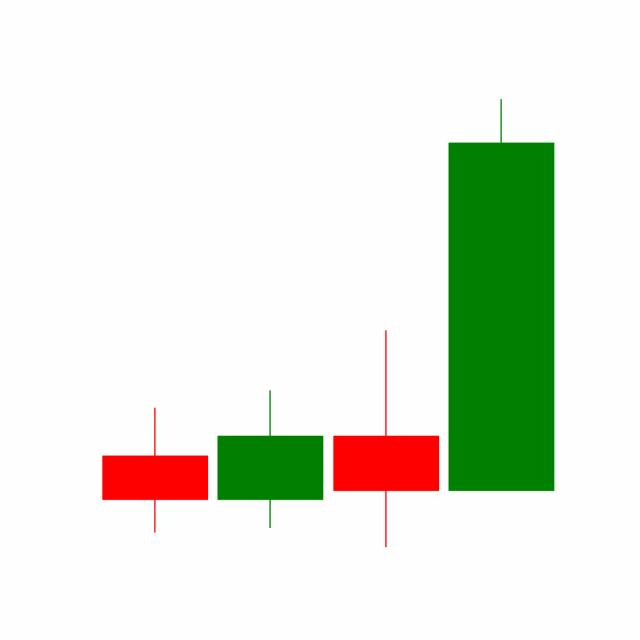Spinning Top: (328, 327, 444, 549)
